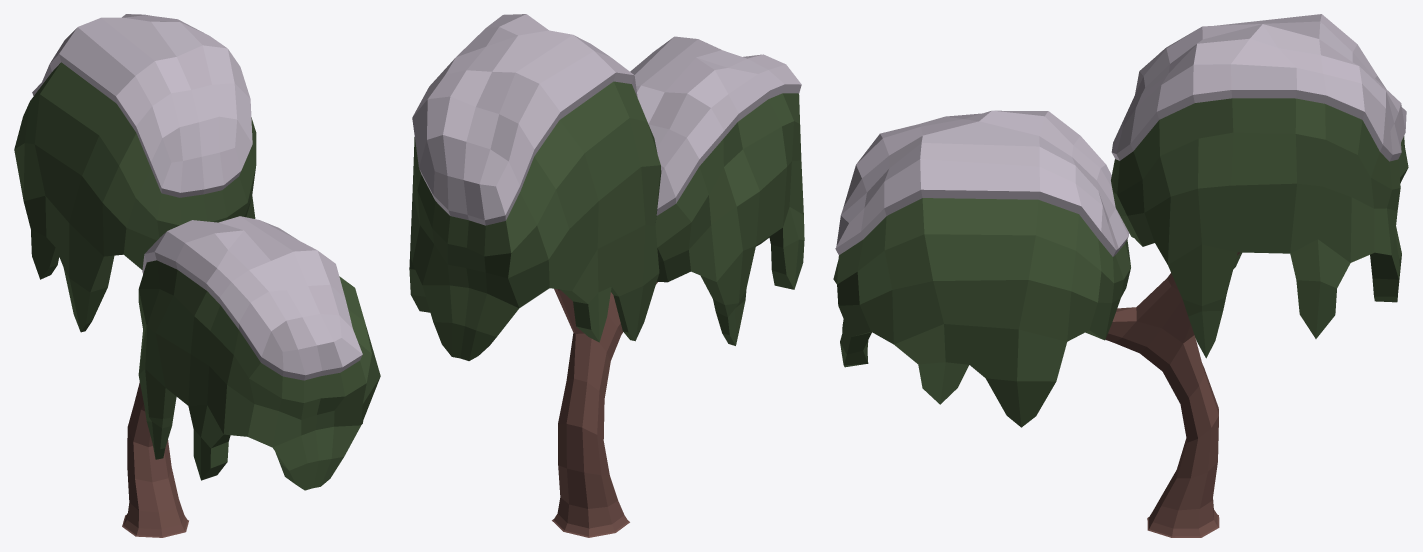
The model's file is willow_snow_5.glb.
3 views of the same model, side by side, from view 1: azimuth 30°, elevation 25°; view 2: azimuth 150°, elevation 25°; view 3: azimuth 270°, elevation 25° (orthographic). The views are drawn at different scales.
Visible parts, largest first — view 1: Willow_Snow_5; view 2: Willow_Snow_5; view 3: Willow_Snow_5.
Part boxes in pixels (box(x1,y1,x2,y2)): Willow_Snow_5: box(14, 14, 380, 537); Willow_Snow_5: box(409, 14, 804, 537); Willow_Snow_5: box(833, 14, 1408, 537).
Bounding box in the file's own units: 2.52 × 6.16 × 6.23.
